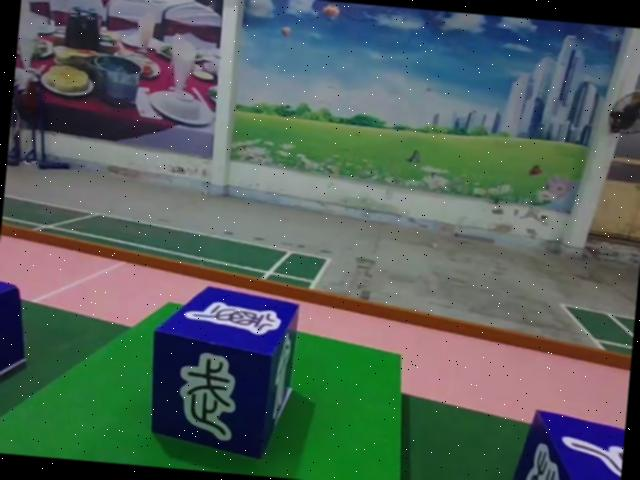R2 Fake Blue: (141, 280, 300, 467), (501, 407, 625, 480), (0, 274, 30, 414)
